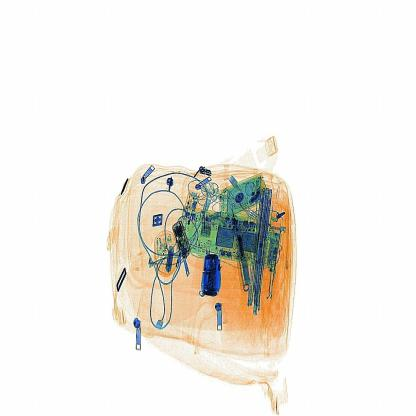scissors: (199, 248, 229, 301)
